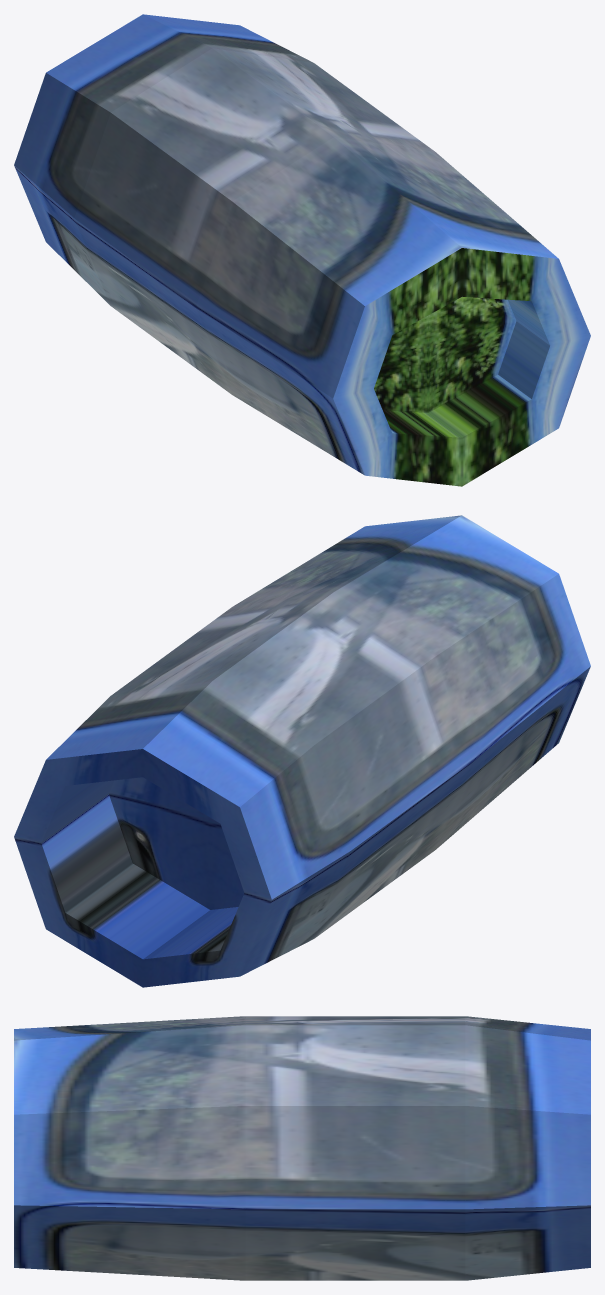
3 renders of one model, top to bottom at view 1: azimuth 30°, elevation 25°; view 2: azimuth 150°, elevation 25°; view 3: azimuth 270°, elevation 25°, orthographic. The views are drawn at different scales.
Parts seen in each view (by area): view 1: Engine-1.003_Cube.037; view 2: Engine-1.003_Cube.037; view 3: Engine-1.003_Cube.037.
Boxes of the visible parts, x1,y1,x2,y2 form: Engine-1.003_Cube.037: [14, 14, 590, 486]; Engine-1.003_Cube.037: [14, 515, 590, 987]; Engine-1.003_Cube.037: [14, 1016, 590, 1280].
Bounding box in the file's own units: 4.75 × 4.48 × 9.5.
